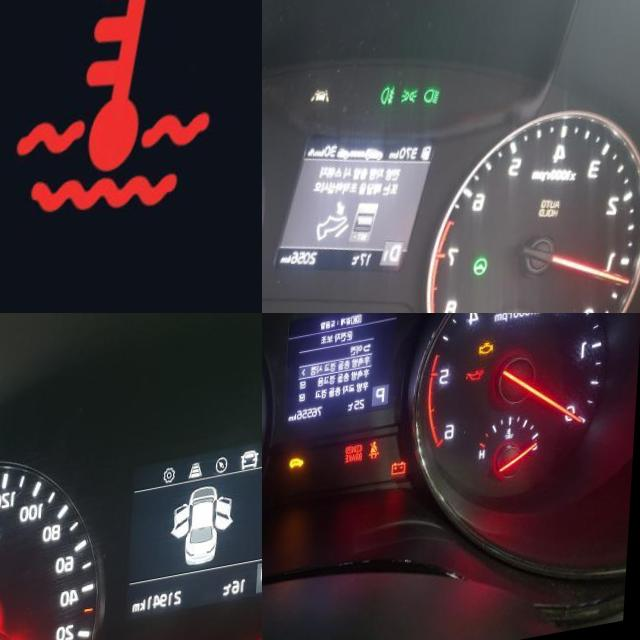Engine cooling system: (10, 0, 250, 245)
FrontFogLight: (382, 94, 401, 119)
LaneCenteringOff: (313, 94, 335, 115)
Low beam: (426, 98, 445, 120)
SideLamp: (403, 97, 424, 118)
